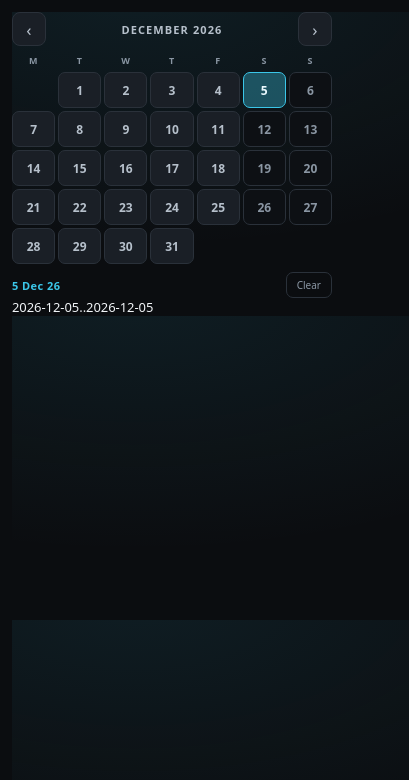
Test case: RangePicker › crosses a year boundary in both directions
Click the button with test id "range-next-month" at (315, 29), box [298, 12, 332, 46]
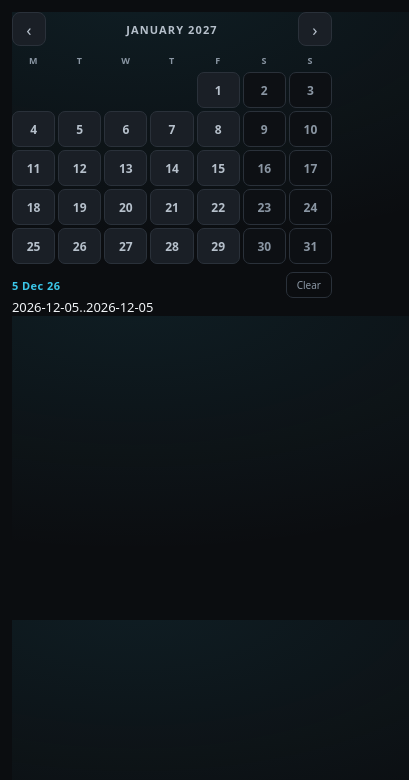
Expected: the text with test id "range-month" reads "JANUARY 2027", [126, 22, 218, 36]
Click the button with test id "range-prev-month" at (29, 29), box [12, 12, 46, 46]
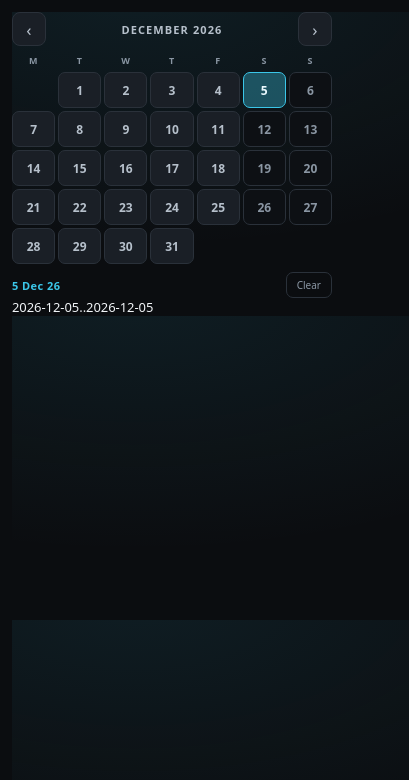
Click the button with test id "range-prev-month" at (29, 29), box [12, 12, 46, 46]
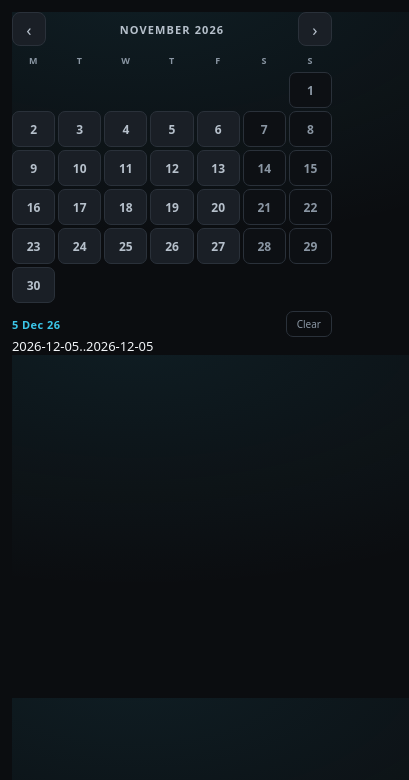
Expected: the text with test id "range-month" reads "NOVEMBER 2026", [120, 22, 224, 36]
